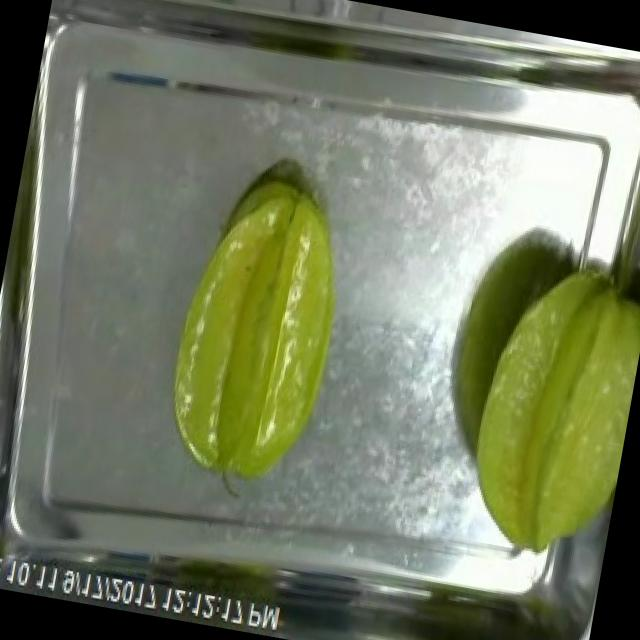fruit: (137, 144, 376, 506), (441, 243, 640, 581)
